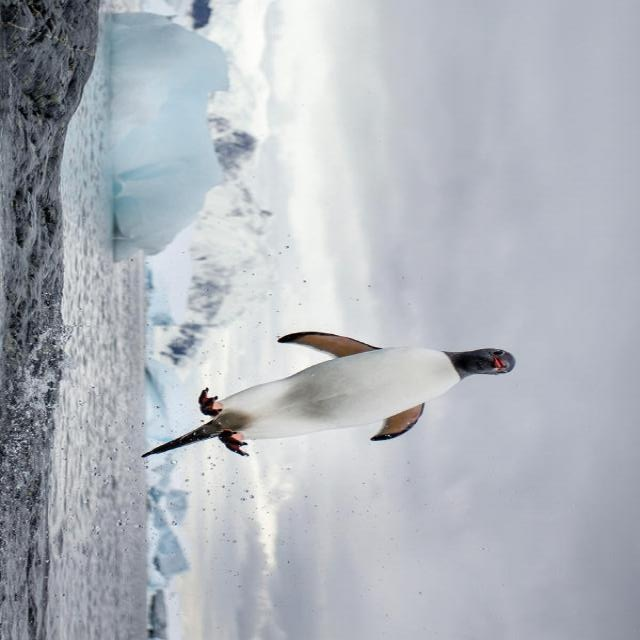penguin: (142, 332, 515, 460)
